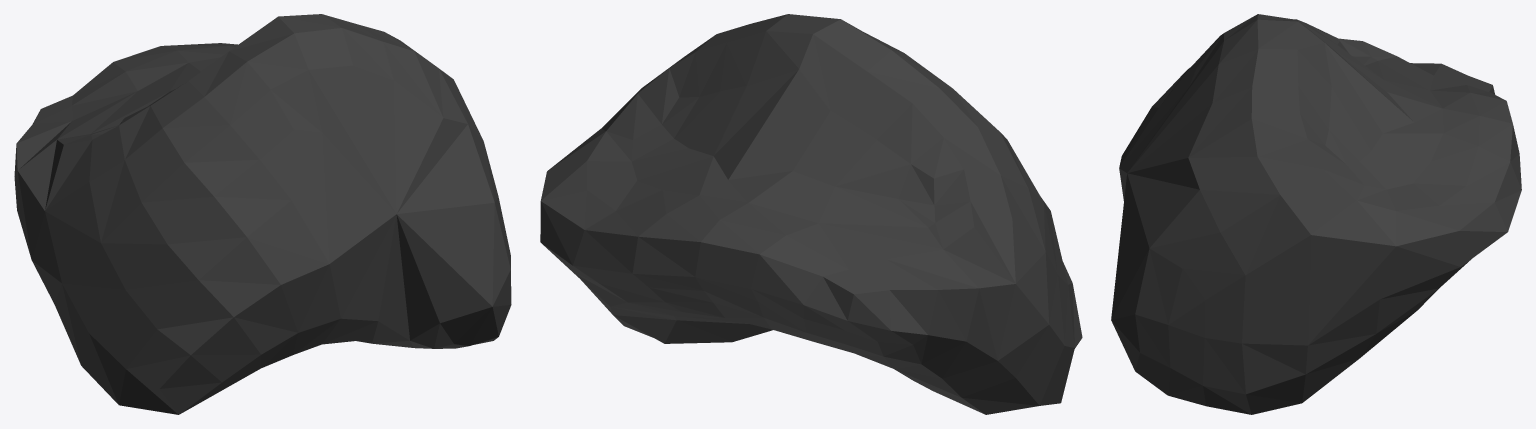
Rendered from RHL_P2.glb.
The picture shows the model from 3 angles, left to right: view 1: azimuth 30°, elevation 25°; view 2: azimuth 150°, elevation 25°; view 3: azimuth 270°, elevation 25°; orthographic projection. The views are drawn at different scales.
Parts seen in each view (by area): view 1: RHL_P2; view 2: RHL_P2; view 3: RHL_P2.
Part boxes in pixels (x1,y1,x2,y2): RHL_P2: (14, 14, 511, 414); RHL_P2: (540, 14, 1082, 414); RHL_P2: (1111, 14, 1521, 414).
Size of the model in its own units: 11.07 by 8.38 by 9.77.
1 material, 1 textured.
